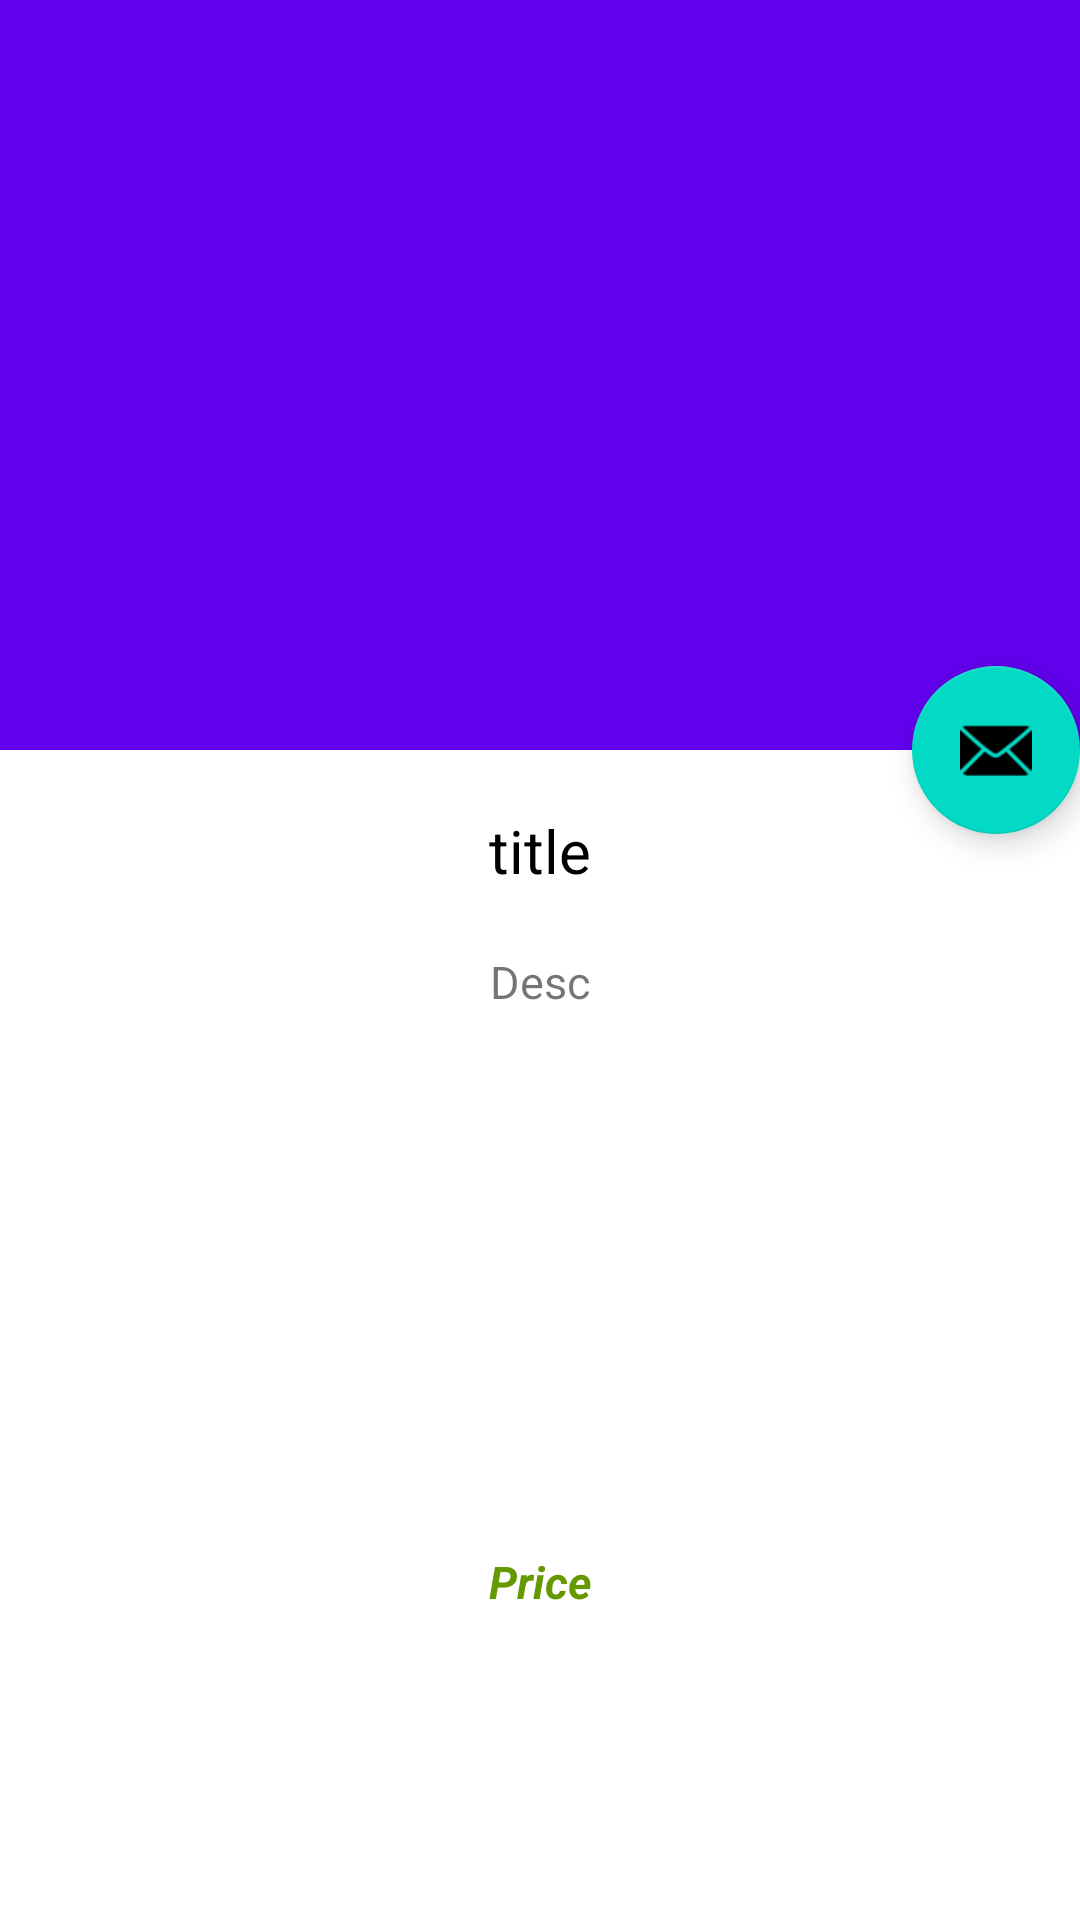

Screen size 1080px x 1920px. Icon name, then its center in pixels as (x,y):
email: (996,750)
